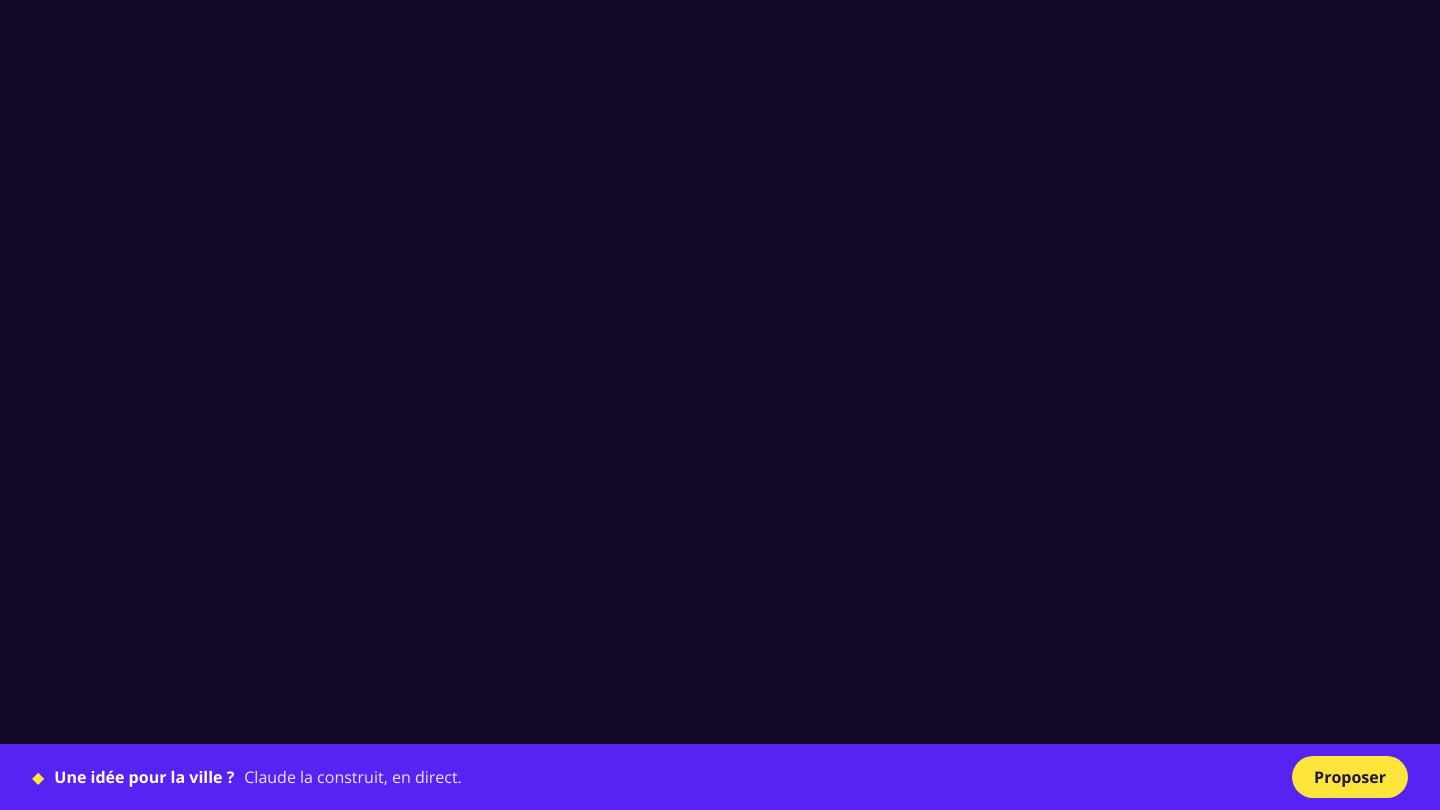
Test: IdeaBanner › ouvre puis ferme le formulaire
Click the button "Proposer" at (1350, 777), box [1292,756,1408,798]
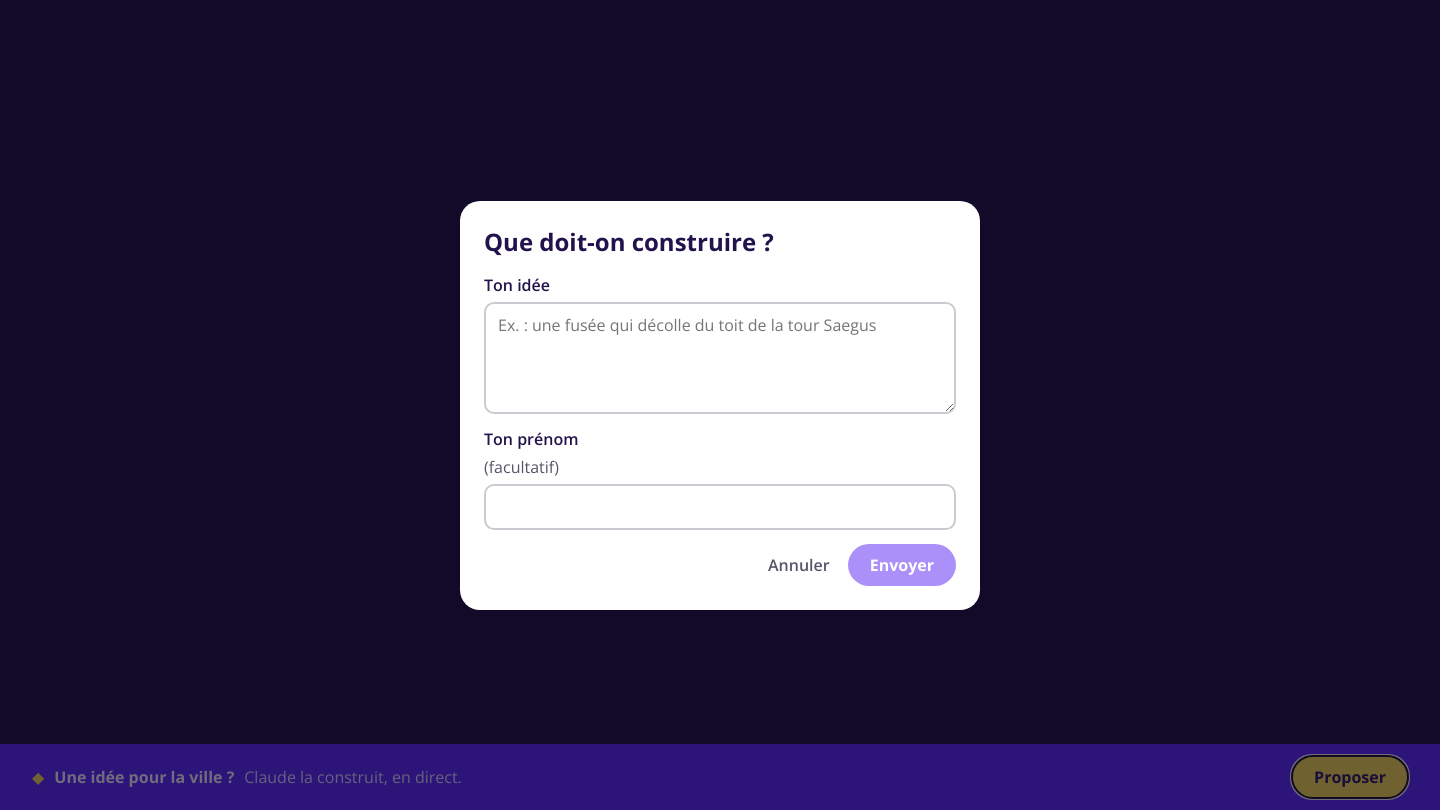
Type "court" into the text box labelled "Ton idée" at (720, 358), box [484,302,956,414]
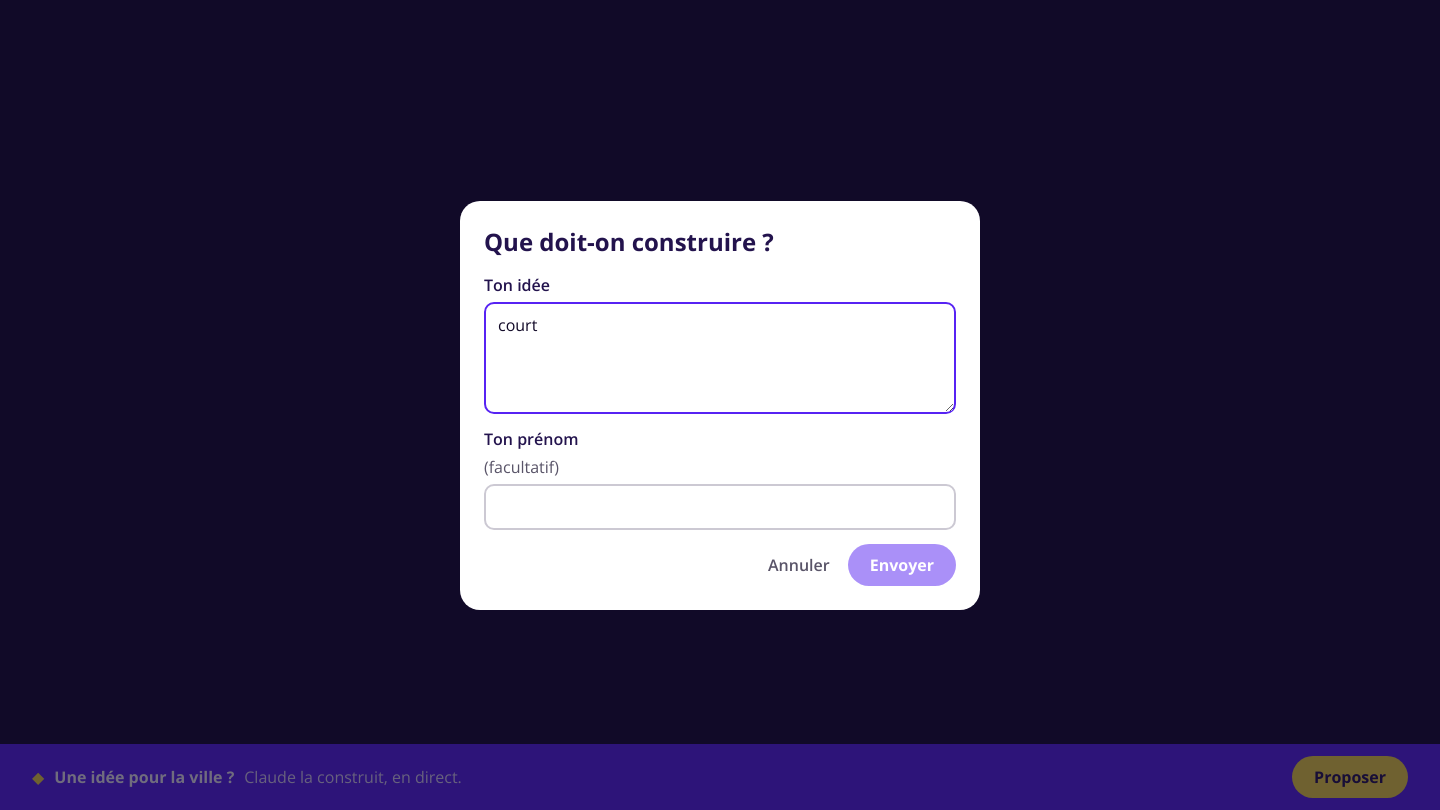
Now the button "Envoyer" is disabled, box [848,544,956,586]
Click the button "Annuler" at (799, 564), box [762,544,836,586]
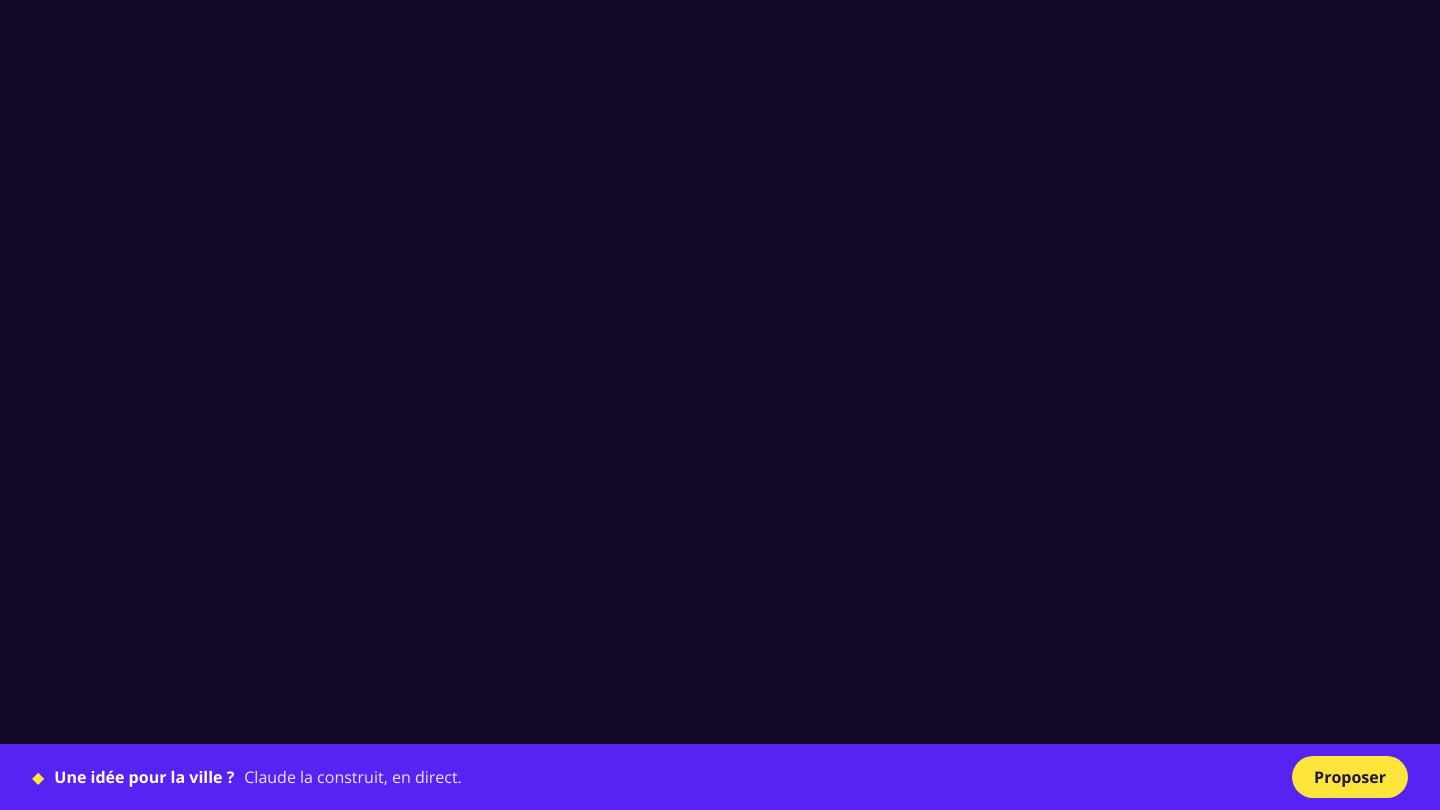
Now the dialog is gone
